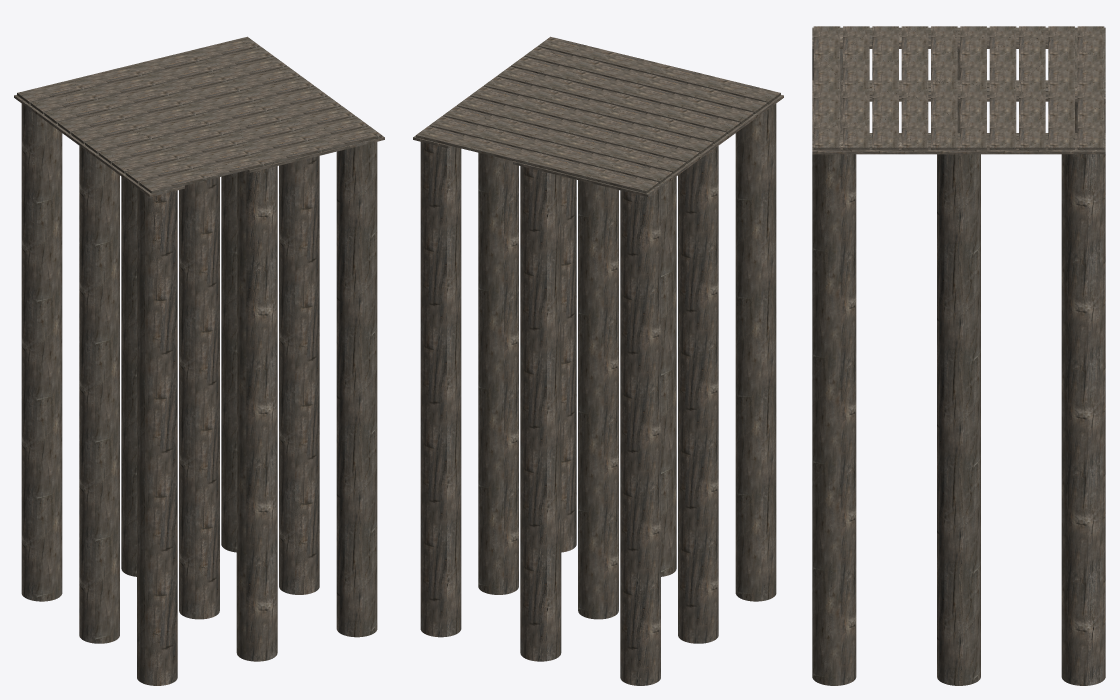
The model's file is Wharf.glb.
3 views of the same model, side by side, from view 1: azimuth 30°, elevation 25°; view 2: azimuth 150°, elevation 25°; view 3: azimuth 270°, elevation 25° (orthographic). The views are drawn at different scales.
Parts seen in each view (by area): view 1: Supports.002, Supports.006, Supports.007, Supports.005, Supports.004, Supports.001, Supports.003, Supports, Supports.008, Cube.006_cell.013, Cube.006_cell.064, Cube.006_cell.047 (+24 smaller); view 2: Supports.008, Supports, Supports.005, Supports.007, Supports.004, Supports.003, Supports.001, Supports.002, Supports.006, Cube.006_cell.013, Cube.006_cell.064, Cube.006_cell.047 (+23 smaller); view 3: Supports.006, Supports.008, Supports.003, Cube.002, Cube.006_cell.013, Cube.006_cell.064, Cube.006_cell.047, Cube.006_cell.046, Cube.006_cell.095, Cube.006_cell.030, Cube.006_cell.001, Cube.006_cell.016 (+27 smaller).
Boxes of the visible parts, x1=… form: Supports.002: x1=236, y1=166, x2=277, y2=661; Supports.006: x1=336, y1=142, x2=377, y2=637; Supports.007: x1=21, y1=104, x2=62, y2=601; Supports.005: x1=137, y1=188, x2=177, y2=685; Supports.004: x1=79, y1=146, x2=119, y2=643; Supports.001: x1=179, y1=177, x2=219, y2=619; Supports.003: x1=279, y1=156, x2=319, y2=594; Supports: x1=121, y1=176, x2=136, y2=576; Supports.008: x1=221, y1=173, x2=236, y2=552; Cube.006_cell.013: x1=74, y1=55, x2=188, y2=91; Cube.006_cell.064: x1=76, y1=64, x2=189, y2=96; Cube.006_cell.047: x1=178, y1=73, x2=274, y2=104; Supports.008: x1=420, y1=142, x2=461, y2=637; Supports: x1=520, y1=166, x2=561, y2=661; Supports.005: x1=735, y1=104, x2=776, y2=601; Supports.007: x1=620, y1=188, x2=660, y2=685; Supports.004: x1=678, y1=146, x2=718, y2=643; Supports.003: x1=478, y1=152, x2=518, y2=594; Supports.001: x1=578, y1=180, x2=618, y2=619; Supports.002: x1=661, y1=176, x2=676, y2=576; Supports.006: x1=561, y1=176, x2=576, y2=552; Cube.006_cell.013: x1=491, y1=143, x2=612, y2=179; Cube.006_cell.064: x1=501, y1=136, x2=615, y2=171; Cube.006_cell.047: x1=484, y1=102, x2=584, y2=132; Supports.006: x1=812, y1=154, x2=856, y2=685; Supports.008: x1=1061, y1=154, x2=1105, y2=685; Supports.003: x1=937, y1=154, x2=980, y2=685; Cube.002: x1=812, y1=133, x2=1061, y2=154; Cube.006_cell.013: x1=1077, y1=50, x2=1104, y2=110; Cube.006_cell.064: x1=1048, y1=49, x2=1074, y2=109; Cube.006_cell.047: x1=989, y1=86, x2=1016, y2=133; Cube.006_cell.046: x1=960, y1=83, x2=986, y2=133; Cube.006_cell.095: x1=813, y1=82, x2=840, y2=125; Cube.006_cell.030: x1=843, y1=83, x2=869, y2=124; Cube.006_cell.001: x1=1077, y1=108, x2=1104, y2=143; Cube.006_cell.016: x1=901, y1=96, x2=928, y2=133.
Bounding box in the file's own units: 20 × 43.09 × 20.
Materials: 4 (3 with a texture image).
